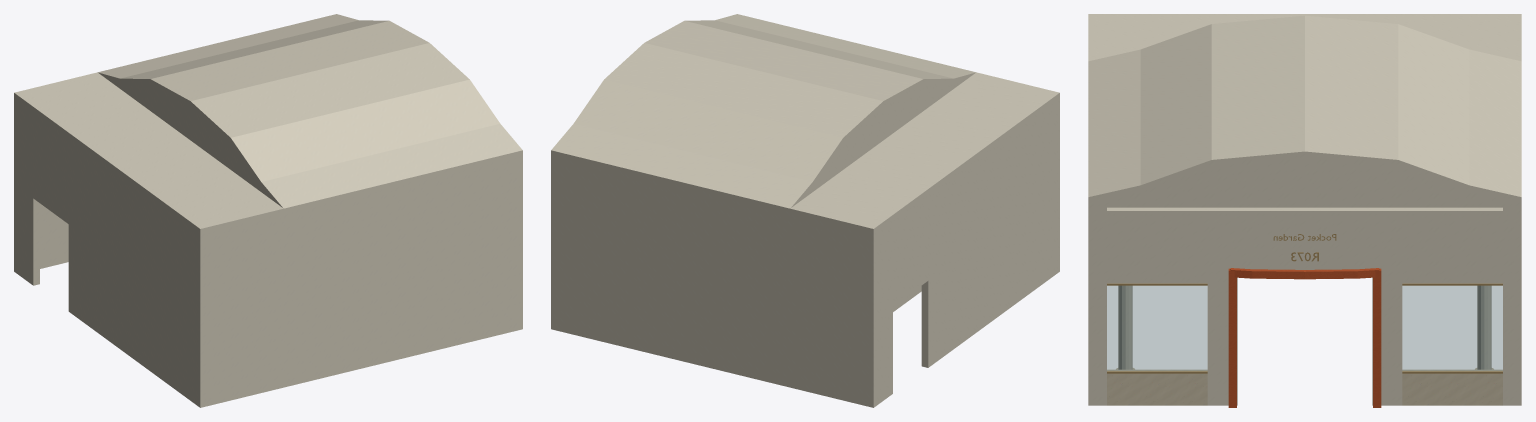
Rendered from SHOP_D09_S72_A314__shell.glb.
The picture shows the model from 3 angles, left to right: view 1: azimuth 30°, elevation 25°; view 2: azimuth 150°, elevation 25°; view 3: azimuth 270°, elevation 25°; orthographic projection. The views are drawn at different scales.
Parts seen in each view (by area): view 1: SHOP_D09_S72_A314__shell__ivory_enamel; view 2: SHOP_D09_S72_A314__shell__ivory_enamel; view 3: SHOP_D09_S72_A314__shell__ivory_enamel, SHOP_D09_S72_A314__shell__shop_glass, SHOP_D09_S72_A314__shell__warm_stone, SHOP_D09_S72_A314__shell__retail_terracotta_enamel, SHOP_D09_S72_A314__shell__champagne_metal.
Part boxes in pixels (left/top/right/bottom): SHOP_D09_S72_A314__shell__ivory_enamel: left=14, top=14, right=522, bottom=407; SHOP_D09_S72_A314__shell__ivory_enamel: left=551, top=14, right=1059, bottom=407; SHOP_D09_S72_A314__shell__ivory_enamel: left=1088, top=14, right=1521, bottom=405; SHOP_D09_S72_A314__shell__shop_glass: left=1107, top=286, right=1502, bottom=370; SHOP_D09_S72_A314__shell__warm_stone: left=1107, top=368, right=1502, bottom=405; SHOP_D09_S72_A314__shell__retail_terracotta_enamel: left=1228, top=268, right=1381, bottom=407; SHOP_D09_S72_A314__shell__champagne_metal: left=1107, top=234, right=1502, bottom=373.
Bounding box in the file's own units: 11.86 × 7.5 × 11.6.
Materials: 6 (4 with a texture image).
